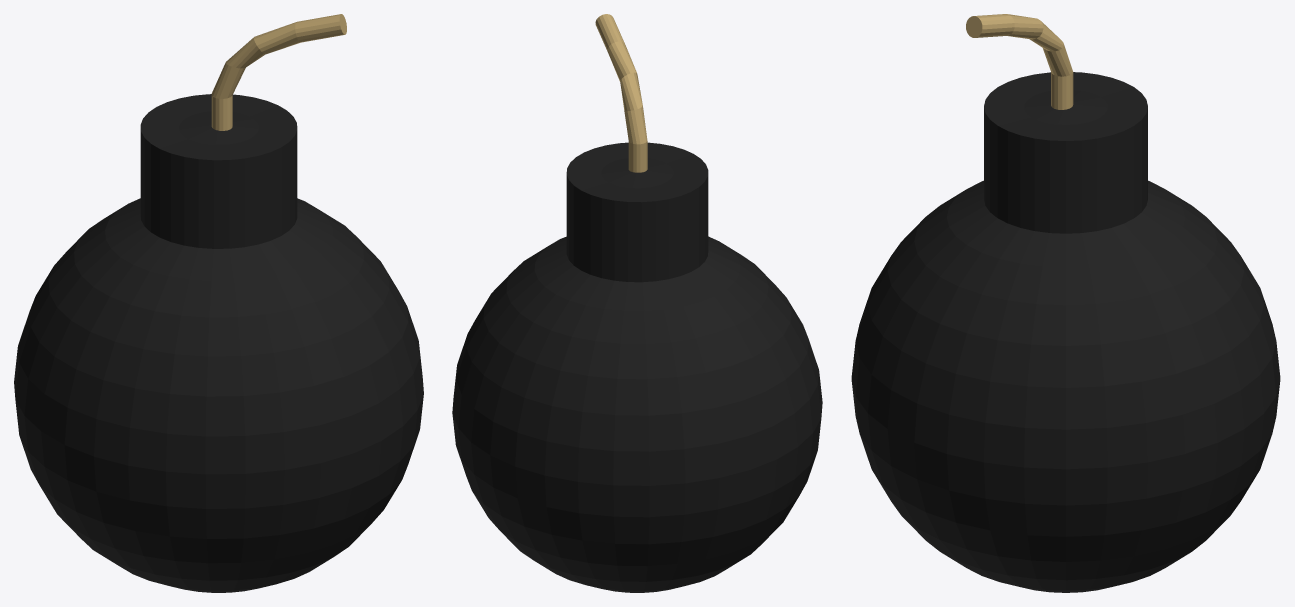
Rendered from grenade.fbx.
3 views of the same model, side by side, from view 1: azimuth 30°, elevation 25°; view 2: azimuth 150°, elevation 25°; view 3: azimuth 270°, elevation 25° (orthographic). The views are drawn at different scales.
Parts seen in each view (by area): view 1: Sphere; view 2: Sphere; view 3: Sphere.
Boxes of the visible parts, x1,y1,x2,y2 form: Sphere: [14, 14, 423, 592]; Sphere: [452, 14, 822, 592]; Sphere: [851, 14, 1280, 592].
Bounding box in the file's own units: 200 × 307 × 200.
